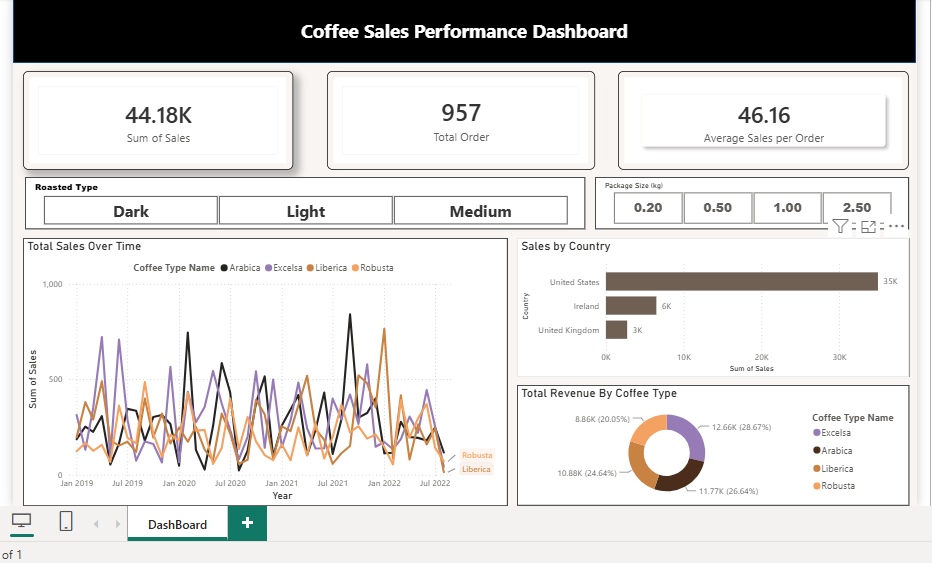

What the dashboard file says about the page in this screenshot:
{"tool":"powerbi","page":{"name":"DashBoard","canvas":[1280,720],"ordinal":0},"visuals":[{"type":"shape","box":[0,0,1279.8,92.1],"z":0},{"type":"cardVisual","fields":{"Data":["Sum(Orders.Sales)"]},"box":[14.2,103.5,382.7,140.3],"z":1000},{"type":"cardVisual","fields":{"Data":["Count(Orders.Order ID)"]},"box":[445,103.5,379.8,140.3],"z":2000},{"type":"cardVisual","fields":{"Data":["Orders.Average Sales per Order"]},"box":[857.5,103.5,412.4,140.3],"z":3000},{"type":"slicer","fields":{"Values":["Orders.Roast Type Name"]},"box":[17,253.7,793.7,73.7],"z":4000},{"type":"slicer","fields":{"Values":["Orders.Size"]},"box":[824.9,253.7,445,73.7],"z":5000},{"type":"lineChart","title":"Total Sales Over Time","fields":{"Y":["Sum(Orders.Sales)"],"Series":["Orders.Coffee Type Name"],"Category":["Orders.Order Date.Variation.Date Hierarchy.Year","Orders.Order Date.Variation.Date Hierarchy.Month"]},"box":[14.2,340.2,687.4,379.8],"z":6000},{"type":"clusteredBarChart","title":"Sales by Country","fields":{"Category":["Orders.Country"],"Y":["Sum(Orders.Sales)"]},"box":[714.3,340.2,555.6,197],"z":7000},{"type":"donutChart","title":"Total Revenue By Coffee Type ","fields":{"Category":["Orders.Coffee Type Name"],"Y":["Sum(Orders.Sales)"]},"box":[714.3,548.5,555.6,171.5],"z":8000}]}

Visuals, with their boxes in screenshot pixels (x1, y1, x2, y2):
shape: [x1=0, y1=0, x2=917, y2=59]
cardVisual - Sum(Orders.Sales): [x1=8, y1=67, x2=283, y2=168]
cardVisual - Count(Orders.Order ID): [x1=317, y1=67, x2=590, y2=168]
cardVisual - Orders.Average Sales per Order: [x1=613, y1=67, x2=909, y2=168]
slicer - Orders.Roast Type Name: [x1=10, y1=175, x2=580, y2=228]
slicer - Orders.Size: [x1=590, y1=175, x2=909, y2=228]
"Total Sales Over Time" lineChart: [x1=8, y1=237, x2=501, y2=510]
"Sales by Country" clusteredBarChart: [x1=510, y1=237, x2=909, y2=378]
"Total Revenue By Coffee Type " donutChart: [x1=510, y1=387, x2=909, y2=510]
